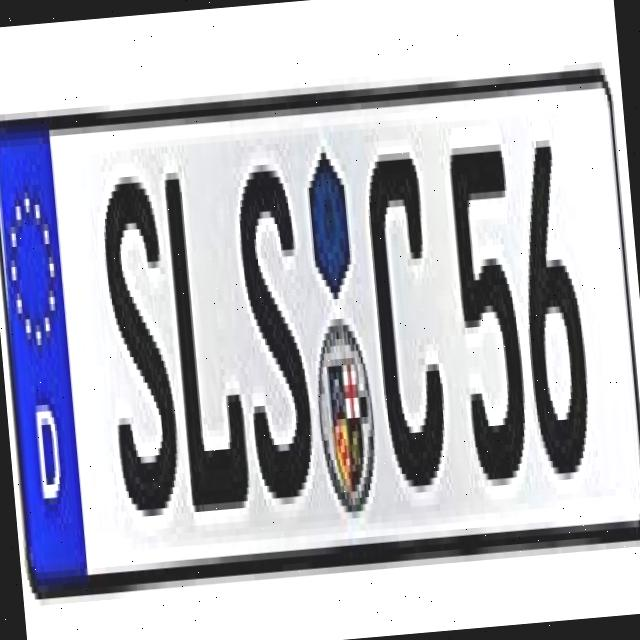Allemagne: (0, 118, 87, 581)
EU: (0, 56, 640, 602)
